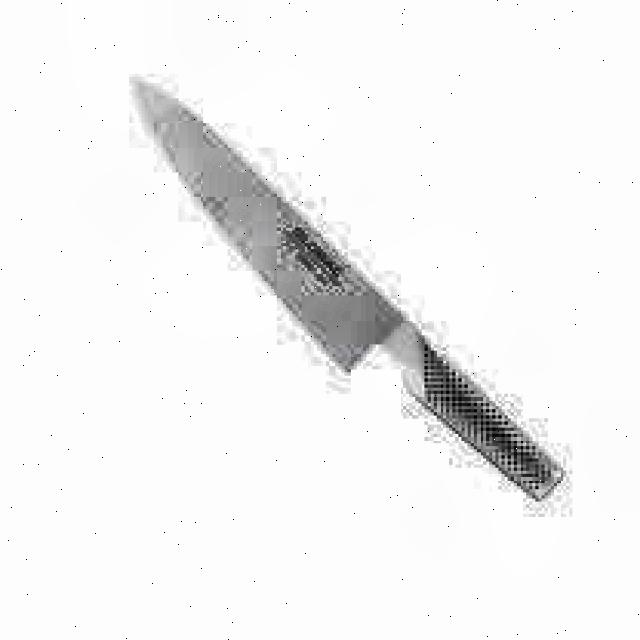knife: (138, 79, 566, 504)
